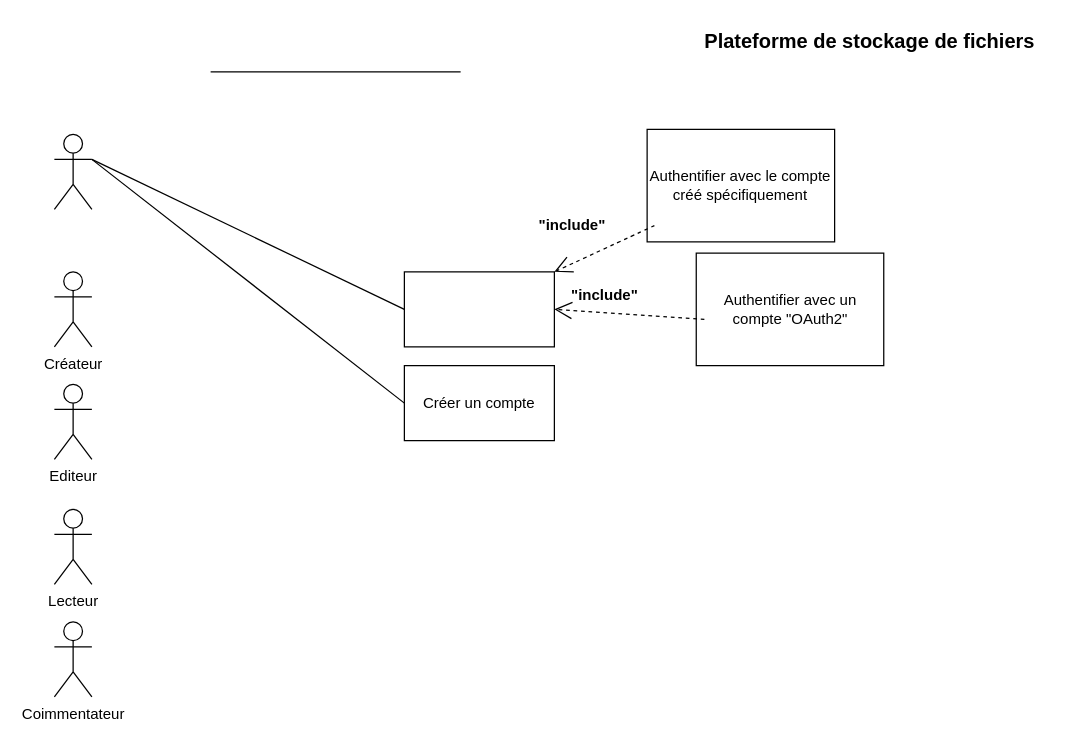
This 1089x744 diagram has some shape labels left out. The centre of each missing label's shape, as x and y in pixels:
Admin: [72,171]
Connecter: [478,309]
